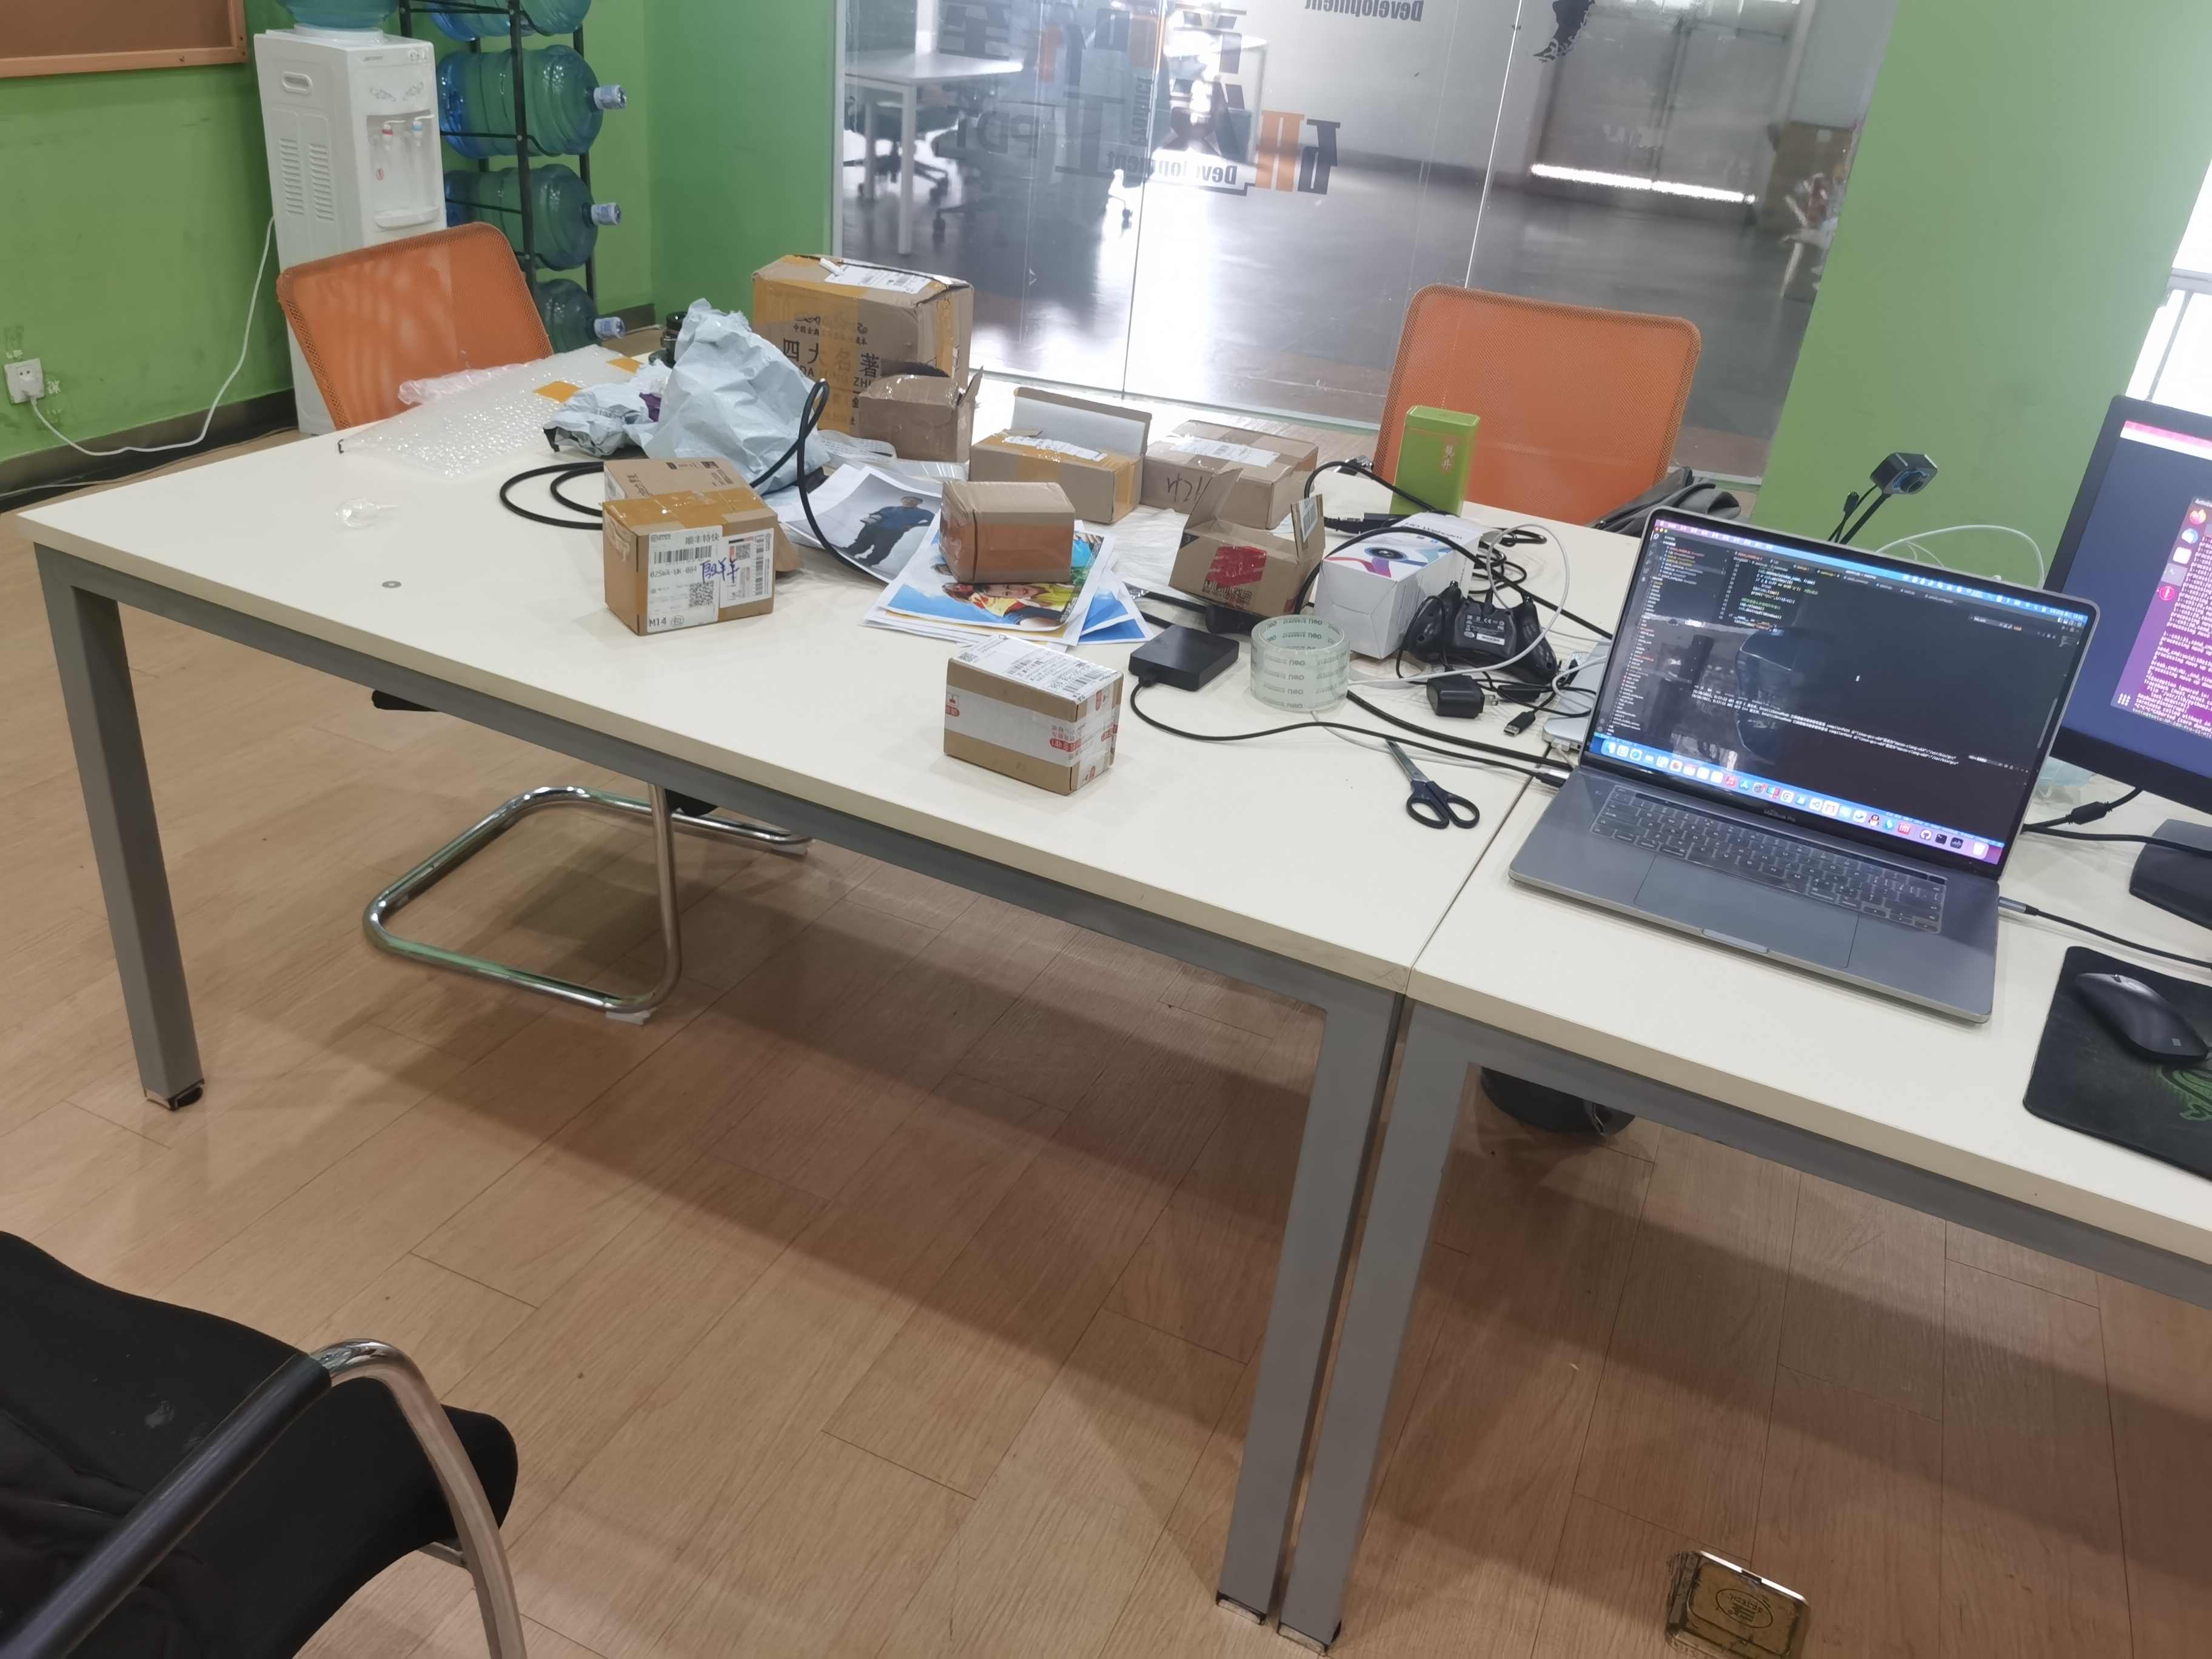box: (906, 612, 1160, 835), (745, 254, 981, 471), (583, 437, 813, 648), (1120, 383, 1359, 521), (975, 369, 1148, 544), (1160, 488, 1345, 617), (930, 460, 1073, 591)
